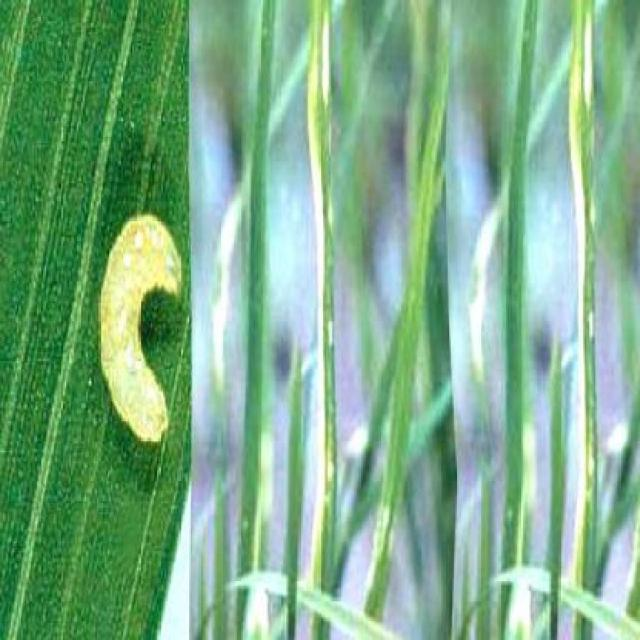whorl-maggot: (94, 209, 184, 463)
